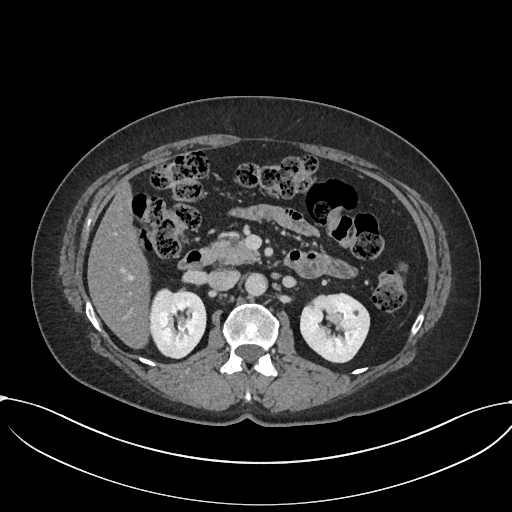Lesion: (351, 305, 362, 323)
